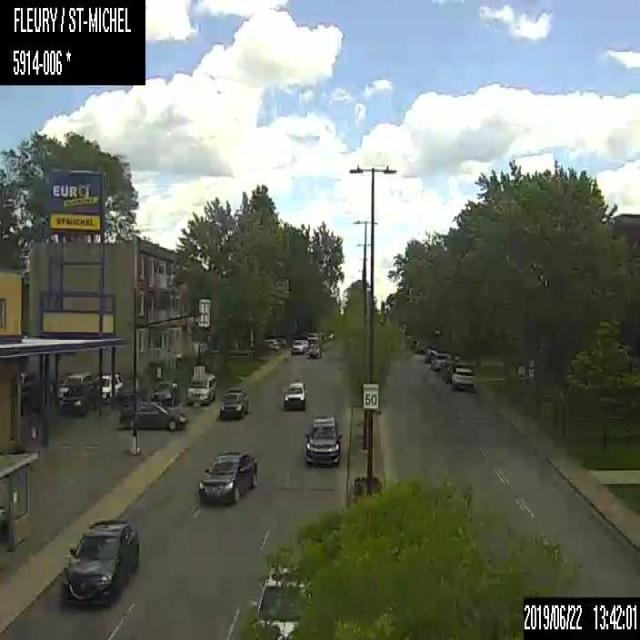Ad-signs: (44, 168, 104, 234)
Car: (61, 518, 139, 606), (254, 567, 312, 639), (198, 450, 258, 505), (303, 415, 342, 467), (219, 387, 249, 420), (283, 381, 306, 410)
